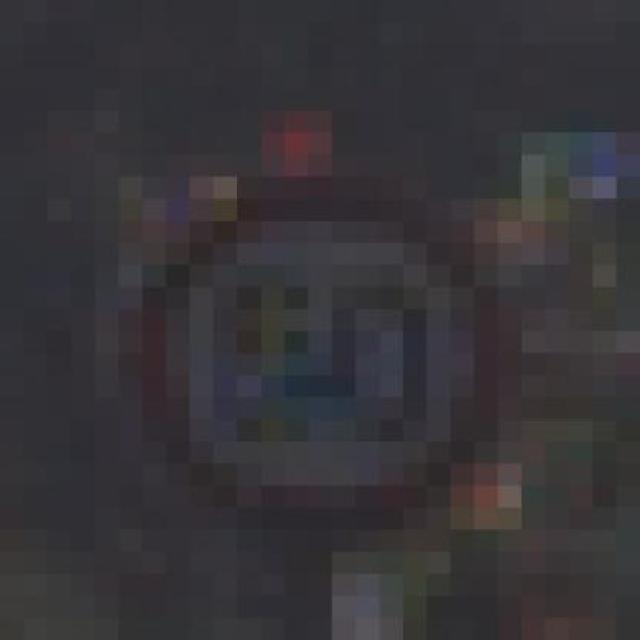50 mph speed limit: (58, 119, 579, 582)
